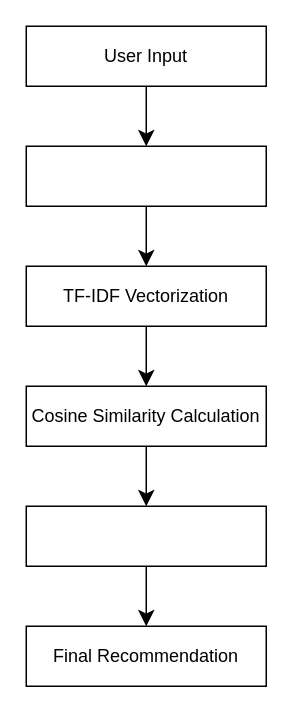
Image size: 293x713. Some labels were removed from this diagram. The shapes that lost their labels are listed below. From the top down, each one's centre as x and y in pixels, then its label:
At (x=145, y=175): "Preprocessing".
At (x=145, y=535): "Ranking & Filtering".
